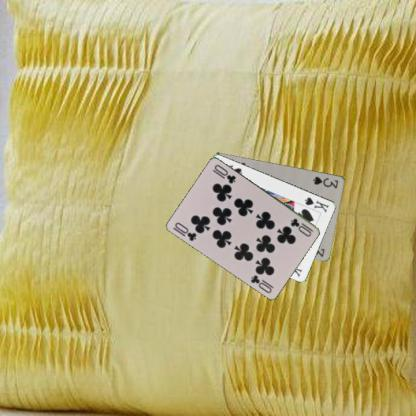10c: (288, 216, 314, 238), (173, 220, 198, 242)
3s: (310, 174, 340, 190)
Ks: (302, 194, 330, 214)
